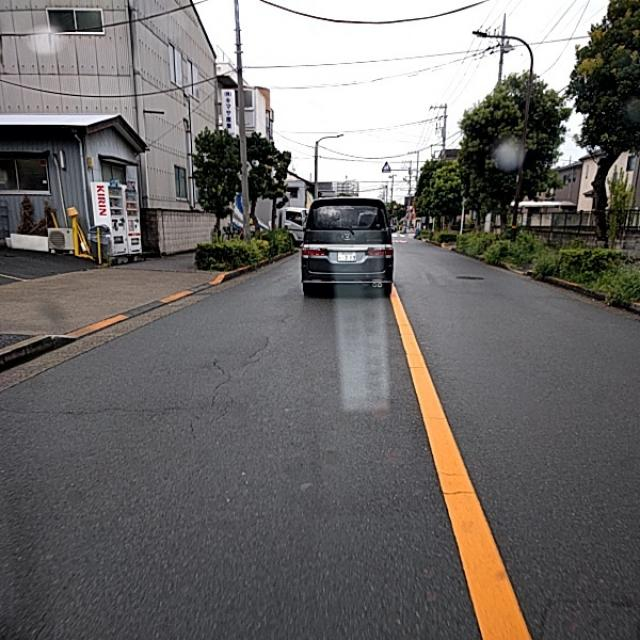pothole: (166, 381, 244, 433)
